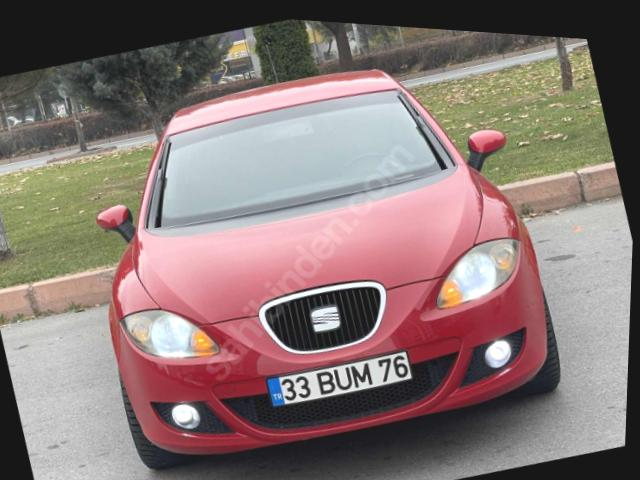plaka: (268, 351, 412, 405)
